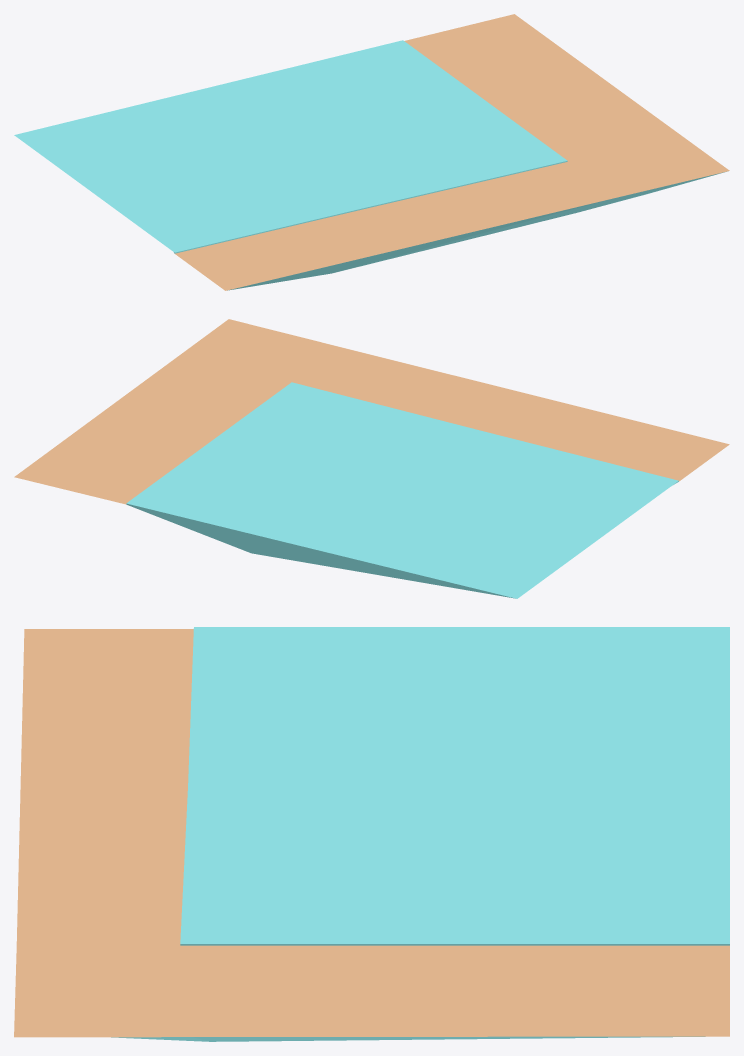
The picture shows the model from 3 angles, top to bottom: view 1: azimuth 30°, elevation 25°; view 2: azimuth 150°, elevation 25°; view 3: azimuth 270°, elevation 25°; orthographic projection. The views are drawn at different scales.
Visible parts, largest first — view 1: Object002; view 2: Object002; view 3: Object002.
Part boxes in pixels (<box>): Object002: <box>14,14,729,290</box>; Object002: <box>14,319,729,598</box>; Object002: <box>14,627,729,1041</box>.
Size of the model in its own units: 231 by 18.19 by 171.
